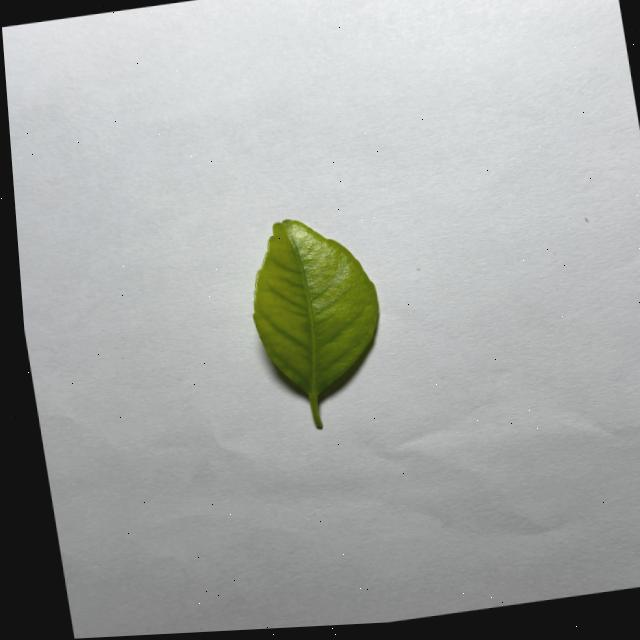greening: (253, 219, 378, 427)
